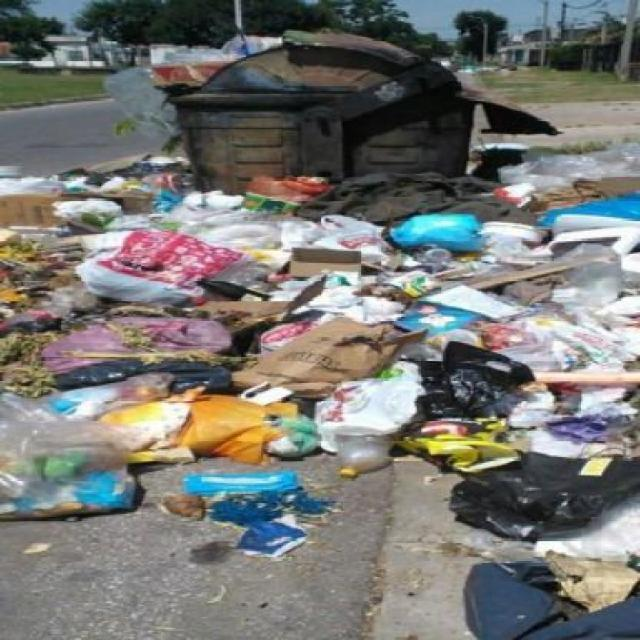garbage: (0, 172, 638, 636), (115, 20, 176, 136), (175, 31, 220, 78)
